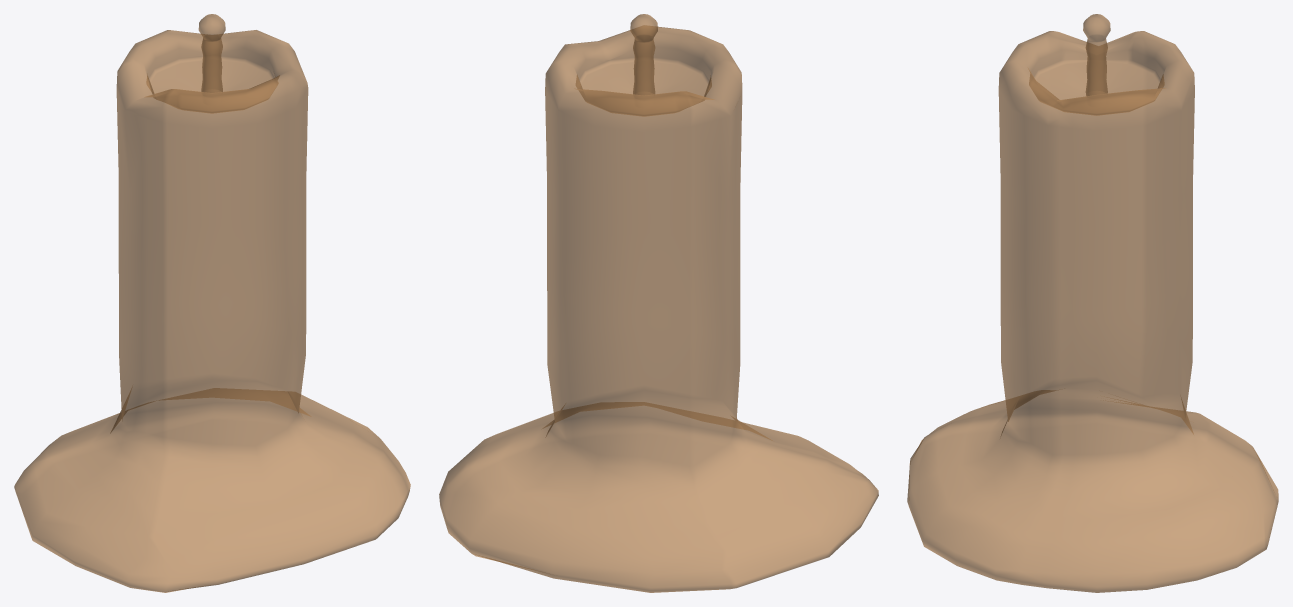
Rendered from SM_Candle_01_Unity.fbx.
3 views of the same model, side by side, from view 1: azimuth 30°, elevation 25°; view 2: azimuth 150°, elevation 25°; view 3: azimuth 270°, elevation 25° (orthographic). The views are drawn at different scales.
Visible parts, largest first — view 1: SM_Candle_01_Base_low; view 2: SM_Candle_01_Base_low; view 3: SM_Candle_01_Base_low.
Part boxes in pixels (<box>): SM_Candle_01_Base_low: <box>14,14,410,592</box>; SM_Candle_01_Base_low: <box>439,14,878,592</box>; SM_Candle_01_Base_low: <box>907,14,1278,592</box>.
Bounding box in the file's own units: 15.6 × 20.48 × 13.98.
